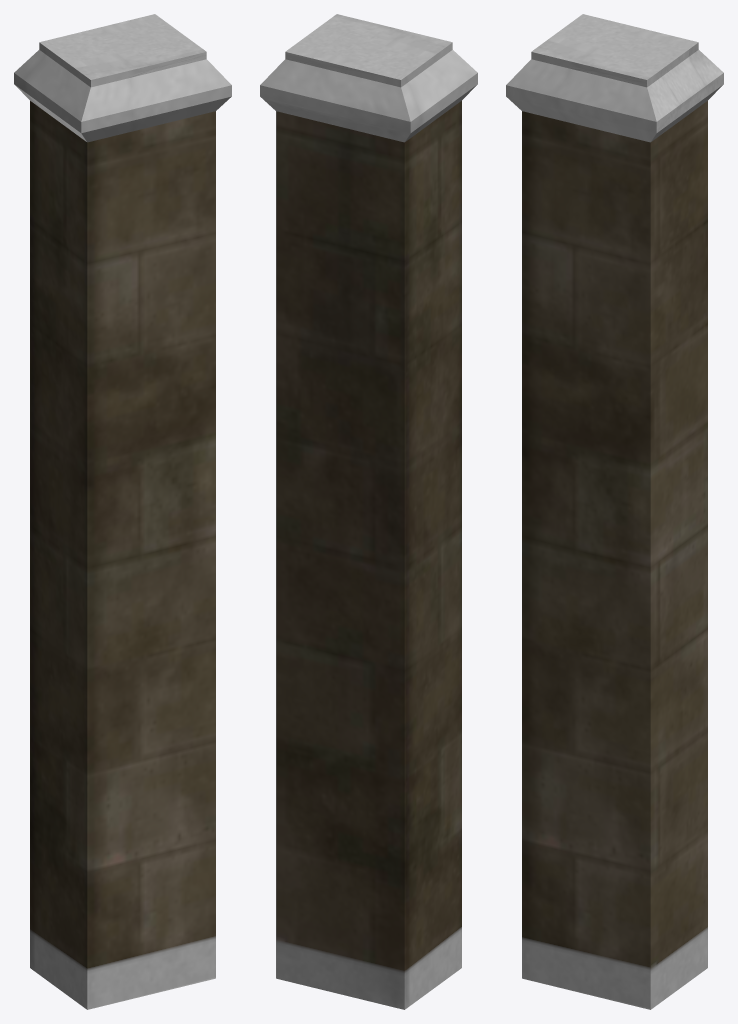
Rendered from Fence_Cap_Full.fbx.
The picture shows the model from 3 angles, left to right: view 1: azimuth 30°, elevation 25°; view 2: azimuth 150°, elevation 25°; view 3: azimuth 330°, elevation 25°; orthographic projection.
Visible parts, largest first — view 1: Fence_cap1; view 2: Fence_cap1; view 3: Fence_cap1.
Part boxes in pixels (<box>): Fence_cap1: <box>14,14,231,1009</box>; Fence_cap1: <box>260,14,477,1009</box>; Fence_cap1: <box>506,14,723,1009</box>.
Size of the model in its own units: 41.41 by 243 by 31.97.
1 material, 1 textured.
